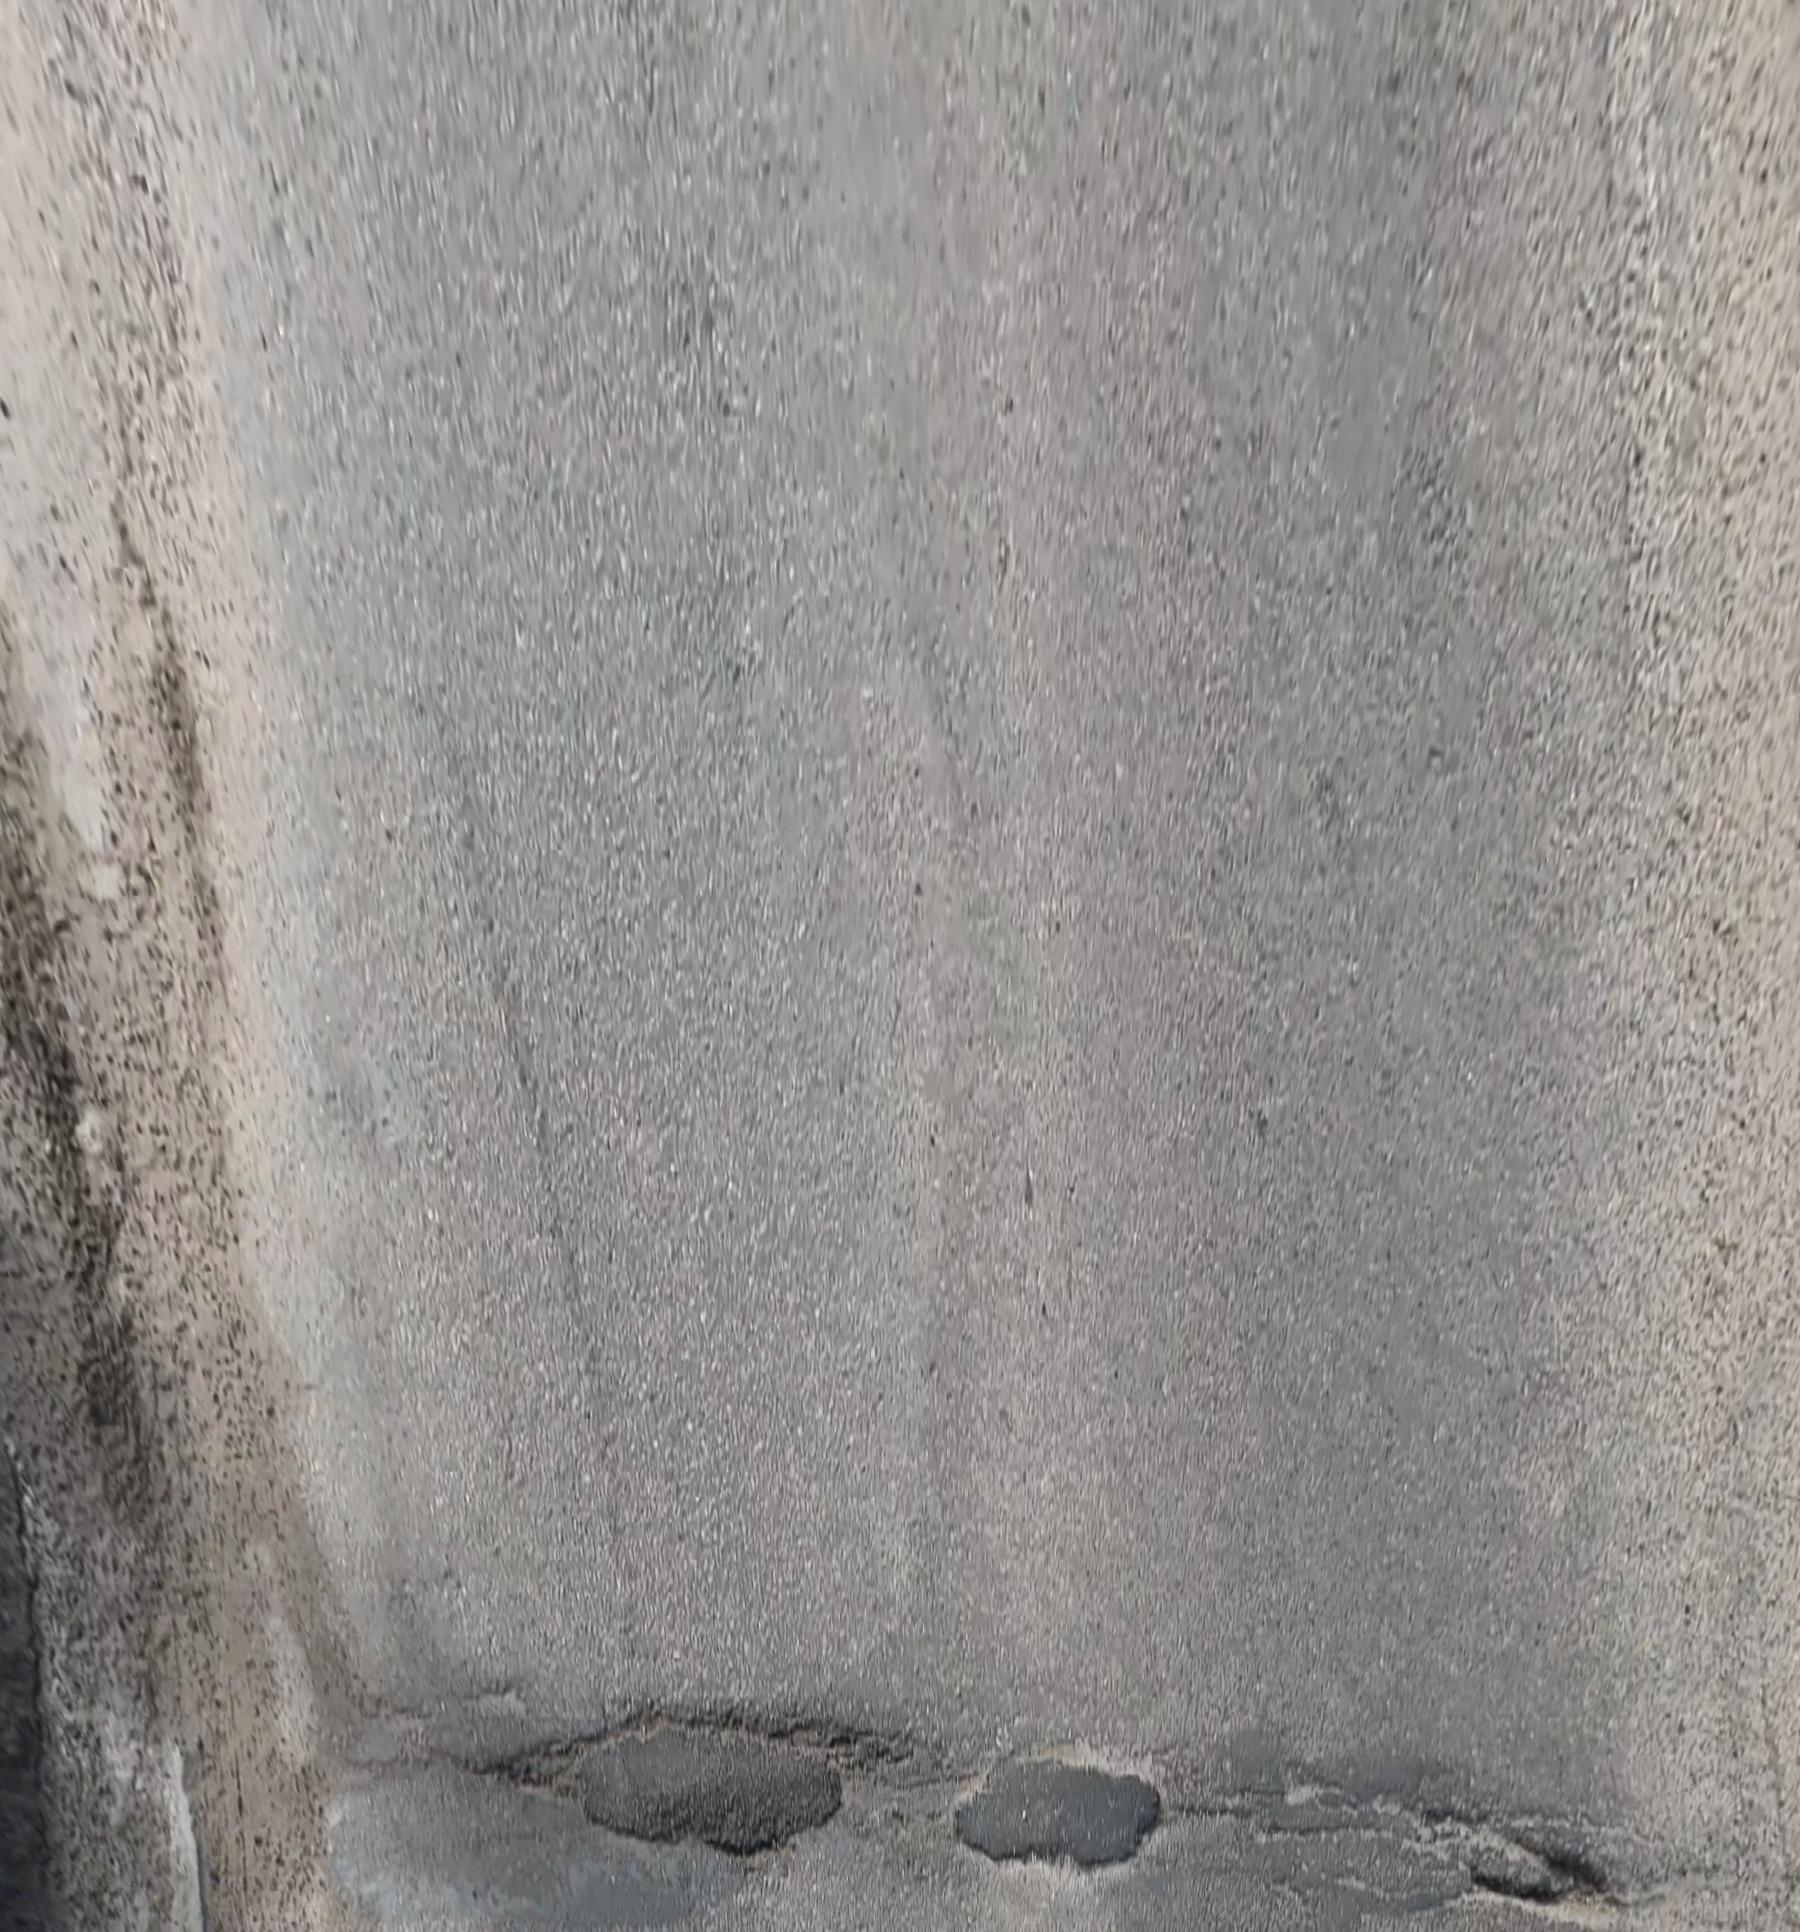pothole: (1568, 1868, 1790, 1930)
pothole_patch_poor: (328, 1690, 1800, 1932)
